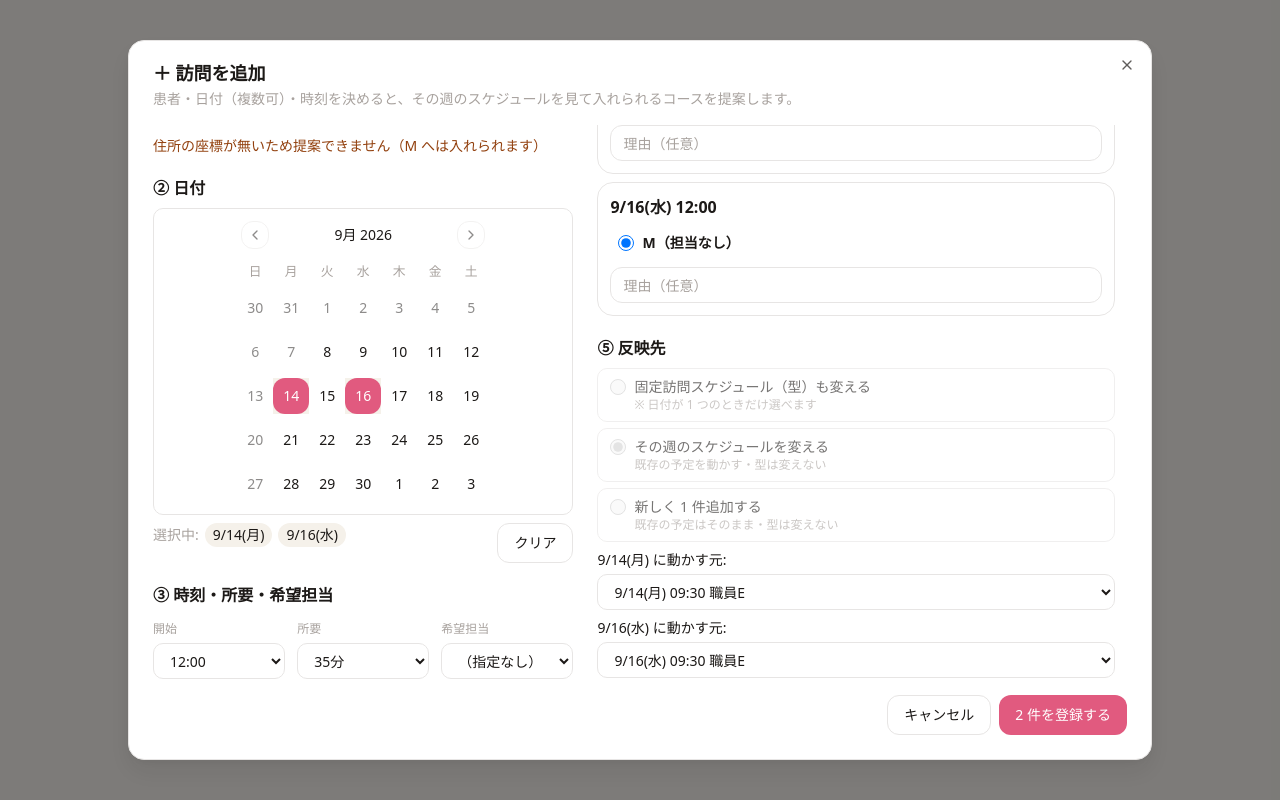
Test: AddVisitAnywhereDialog › H1 手動で元を選び直しても他の日付と重複しない
(page scrolled)
Check: the dropdown with test id "ava-source-2026-09-14" shows "9/14(月) 09:30 職員E", box [597,574,1115,610]
Select "9/14(月) 09:30 職員E（他の日で使用中）" in the dropdown with test id "ava-source-2026-09-16" at (856,660), box [597,642,1115,678]
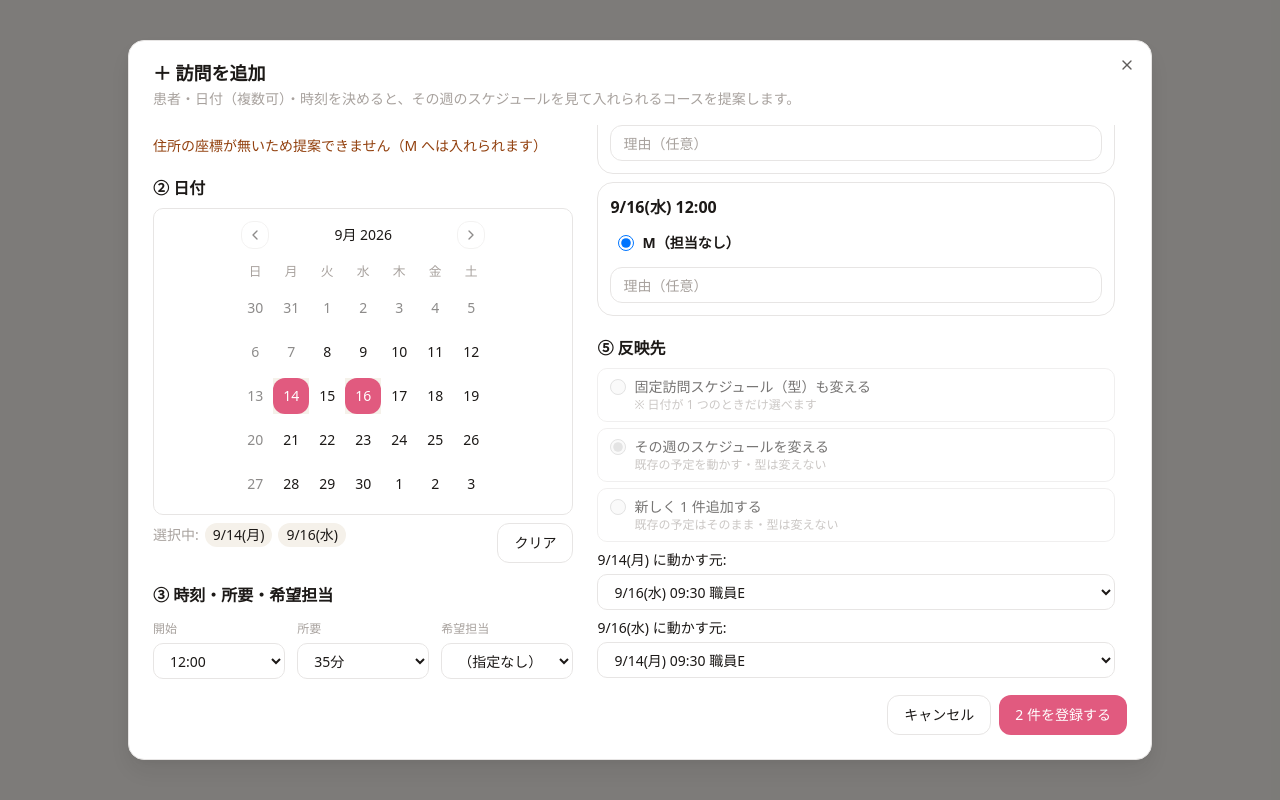
Check: the dropdown with test id "ava-source-2026-09-14" shows "9/16(水) 09:30 職員E", box [597,574,1115,610]
